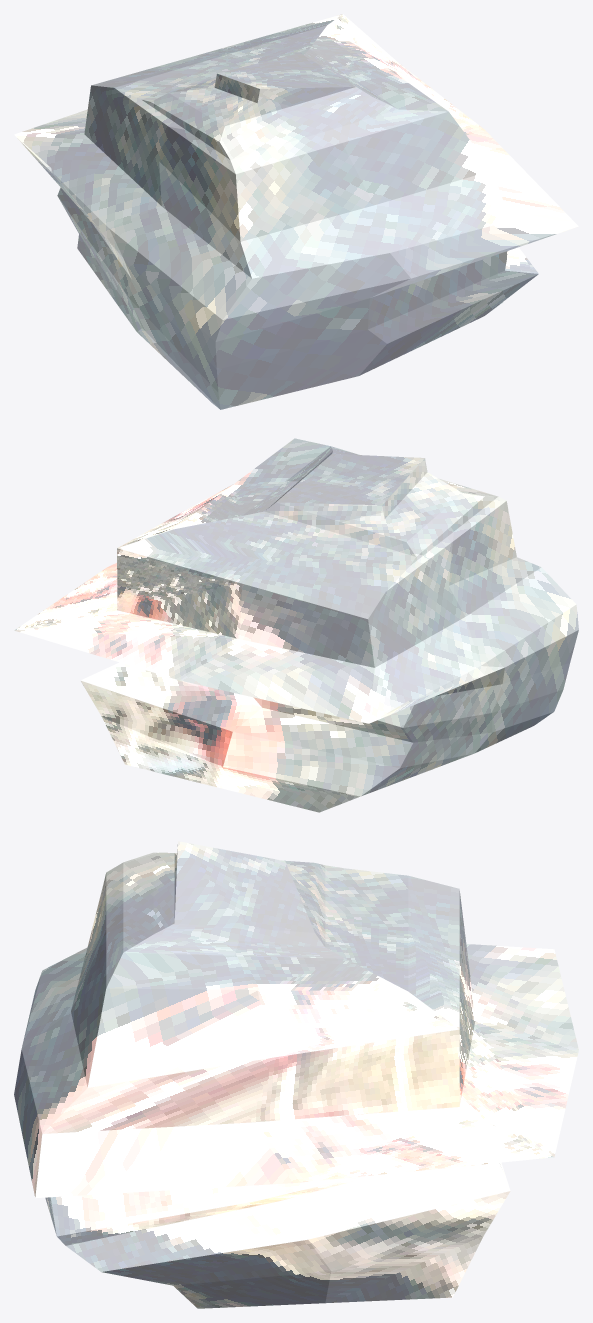
The model's file is metamorphosis_v6_t.glb.
3 views of the same model, one above another, from view 1: azimuth 30°, elevation 25°; view 2: azimuth 150°, elevation 25°; view 3: azimuth 270°, elevation 25° (orthographic). The views are drawn at different scales.
Visible parts, largest first — view 1: Cube; view 2: Cube; view 3: Cube.
Boxes of the visible parts, x1=… form: Cube: x1=14, y1=14, x2=578, y2=409; Cube: x1=14, y1=438, x2=578, y2=812; Cube: x1=14, y1=841, x2=578, y2=1308.
Bounding box in the file's own units: 3.84 × 3.03 × 3.96.
